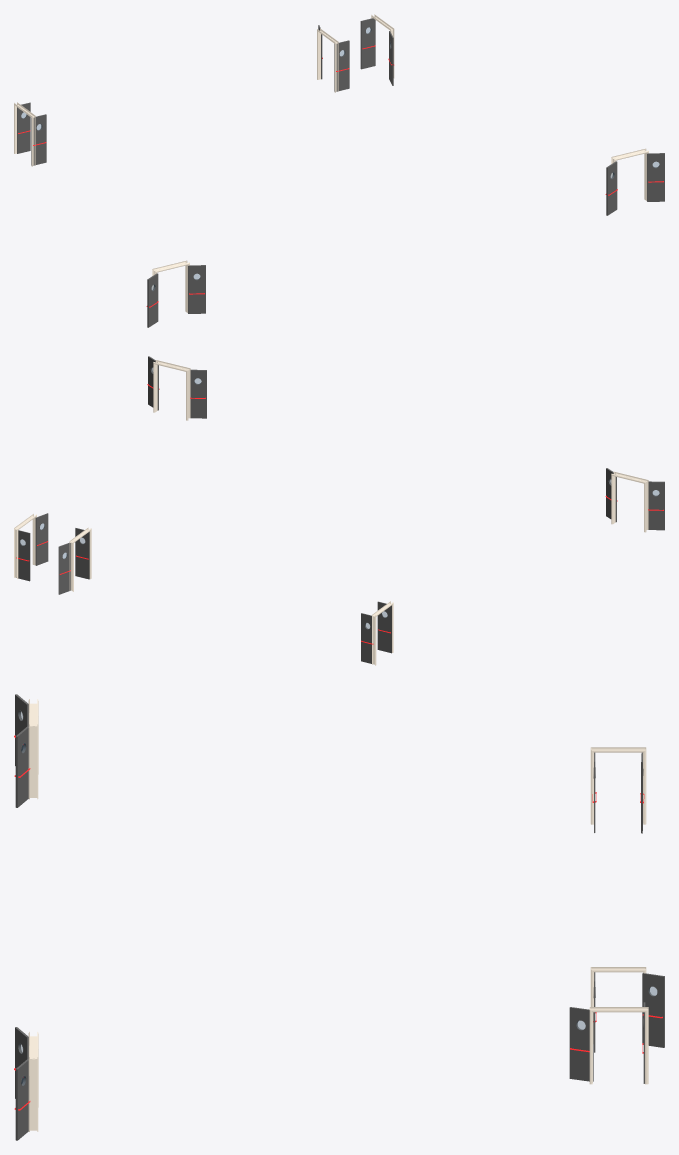
Rendered from doorscorridor.dae.
The picture shows the model from 3 angles, top to bottom: view 1: azimuth 30°, elevation 25°; view 2: azimuth 150°, elevation 25°; view 3: azimuth 270°, elevation 25°; orthographic projection. The views are drawn at different scales.
Visible parts, largest first — view 1: DoorsCorridor; view 2: DoorsCorridor; view 3: DoorsCorridor.
Boxes of the visible parts, x1,y1,x2,y2 form: DoorsCorridor: [14, 14, 664, 327]; DoorsCorridor: [14, 356, 664, 665]; DoorsCorridor: [14, 694, 664, 1140].
Size of the model in its own units: 26.56 by 19.46 by 2.48.
